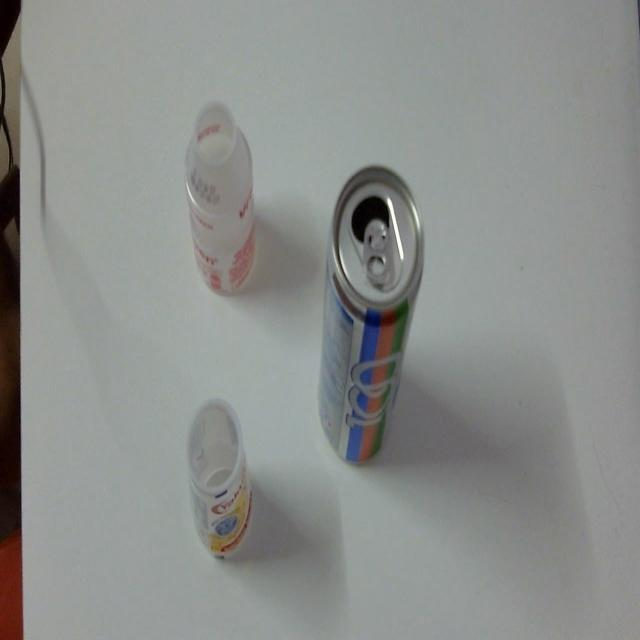metal_standrotation: (313, 154, 429, 481)
plastic_standrotation: (176, 88, 270, 298), (175, 386, 268, 575)
